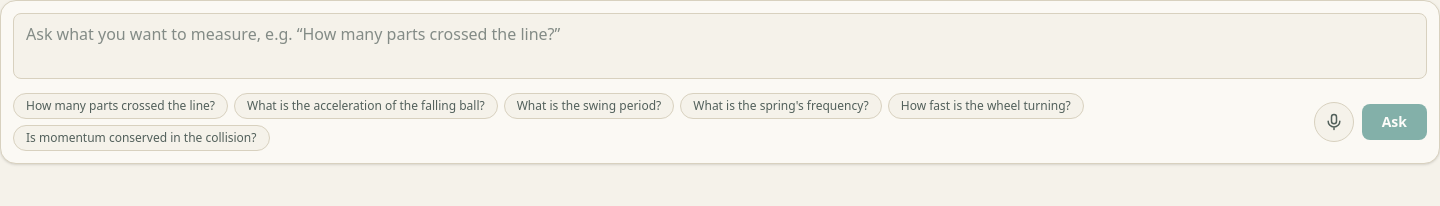
Test: voice input › adds spoken words after what was already typed
Type "What value of g?" into the text box.
click(720, 46); type("What value of g?")  # box [13,13,1427,79]
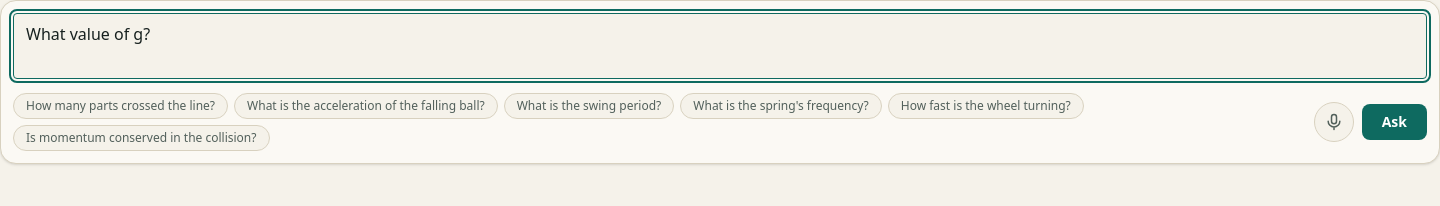
Click the button named "Speak your question".
click(1334, 122)  # box [1314,102,1354,142]
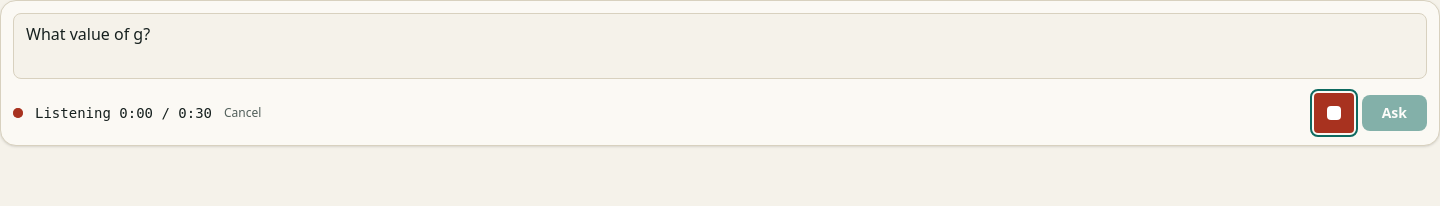
Now the button named "Stop recording" is shown
Click the button named "Stop recording".
click(1334, 113)  # box [1314,93,1354,133]
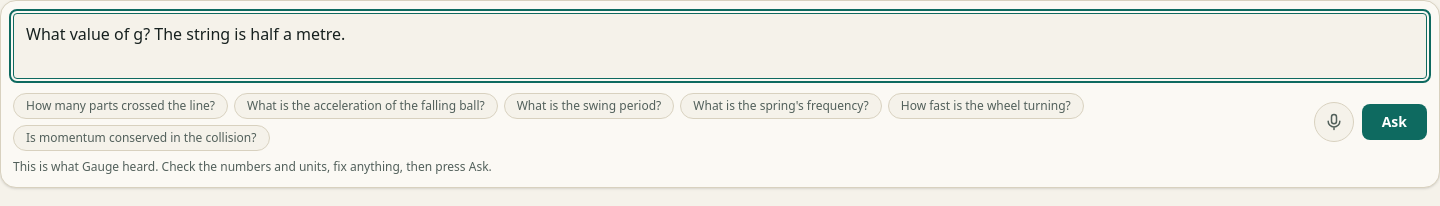
Now the text box holds "What value of g? The string is half a metre.", box [13,13,1427,79]
